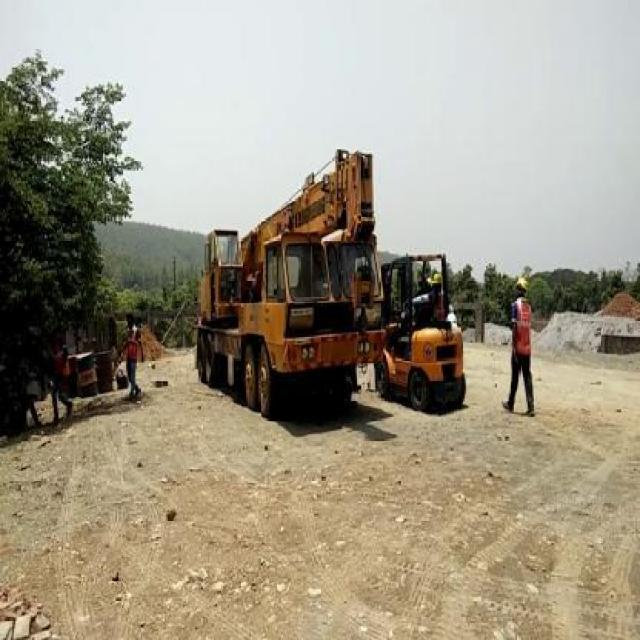Mobile Crane: (195, 150, 380, 412)
